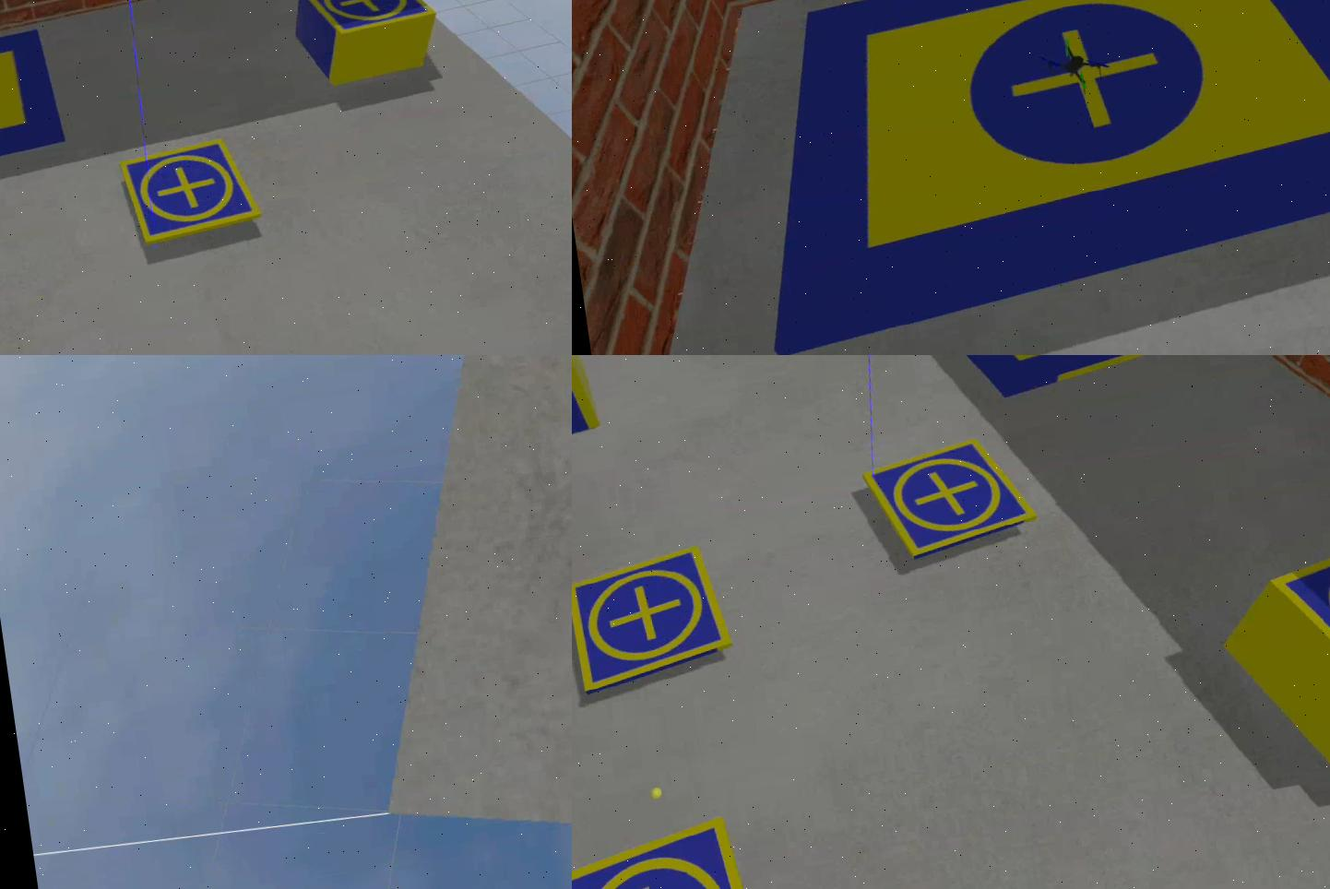large_base: (724, 1, 1330, 352), (909, 356, 1217, 412), (1, 31, 72, 207)
small_base: (573, 543, 737, 696), (862, 433, 1042, 571), (573, 813, 784, 889), (125, 142, 266, 252), (1265, 521, 1330, 739), (300, 1, 439, 46)
